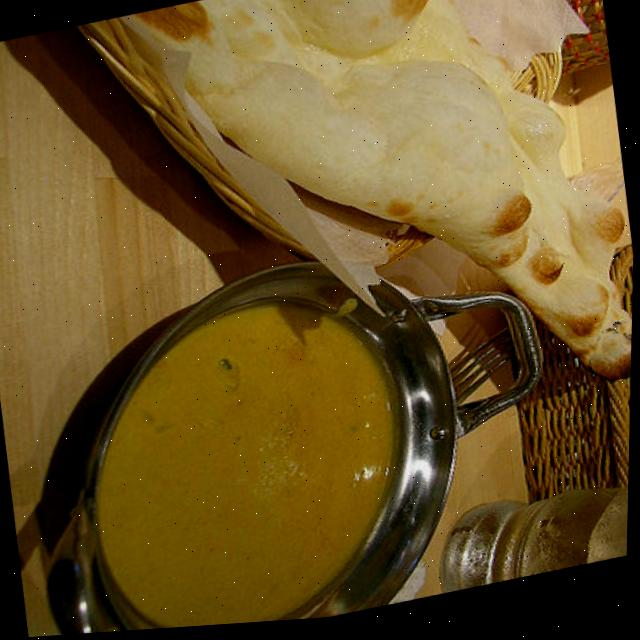牛肉菜式: (30, 235, 488, 638)
